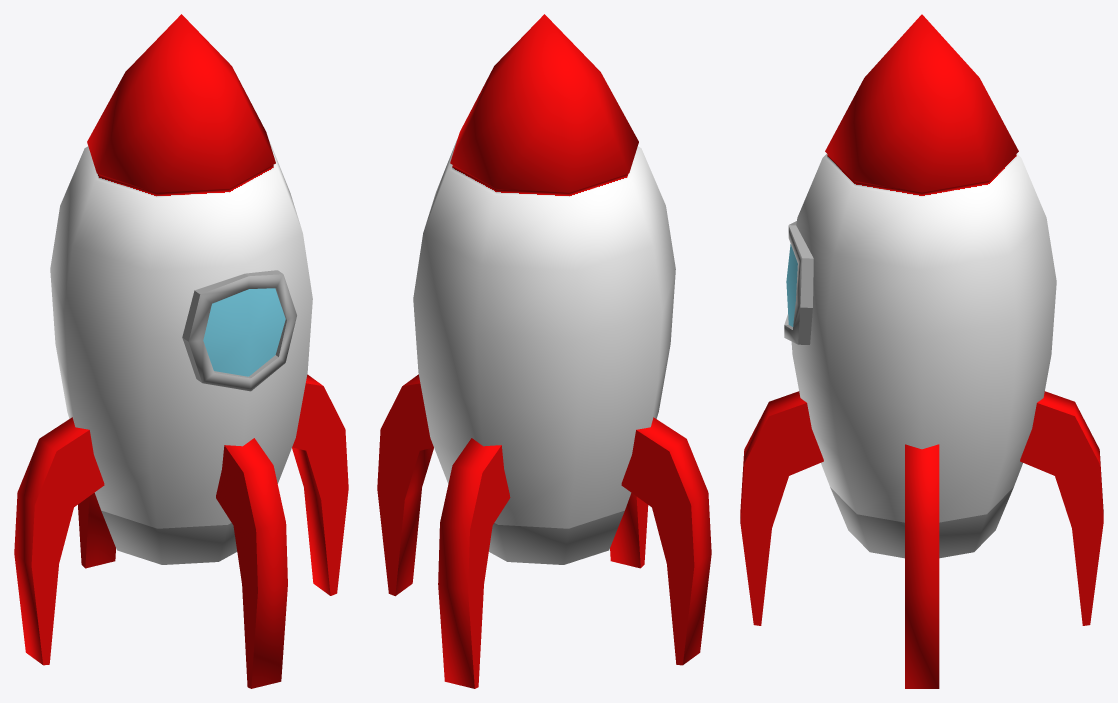
The model's file is Rocket.fbx.
The picture shows the model from 3 angles, left to right: view 1: azimuth 30°, elevation 25°; view 2: azimuth 150°, elevation 25°; view 3: azimuth 270°, elevation 25°; orthographic projection.
Visible parts, largest first — view 1: Cube; view 2: Cube; view 3: Cube.
Boxes of the visible parts, <box> form: Cube: <box>14,14,348,688</box>; Cube: <box>377,14,711,688</box>; Cube: <box>740,14,1103,688</box>.
Size of the model in its own units: 4.75 by 8.73 by 4.75.
